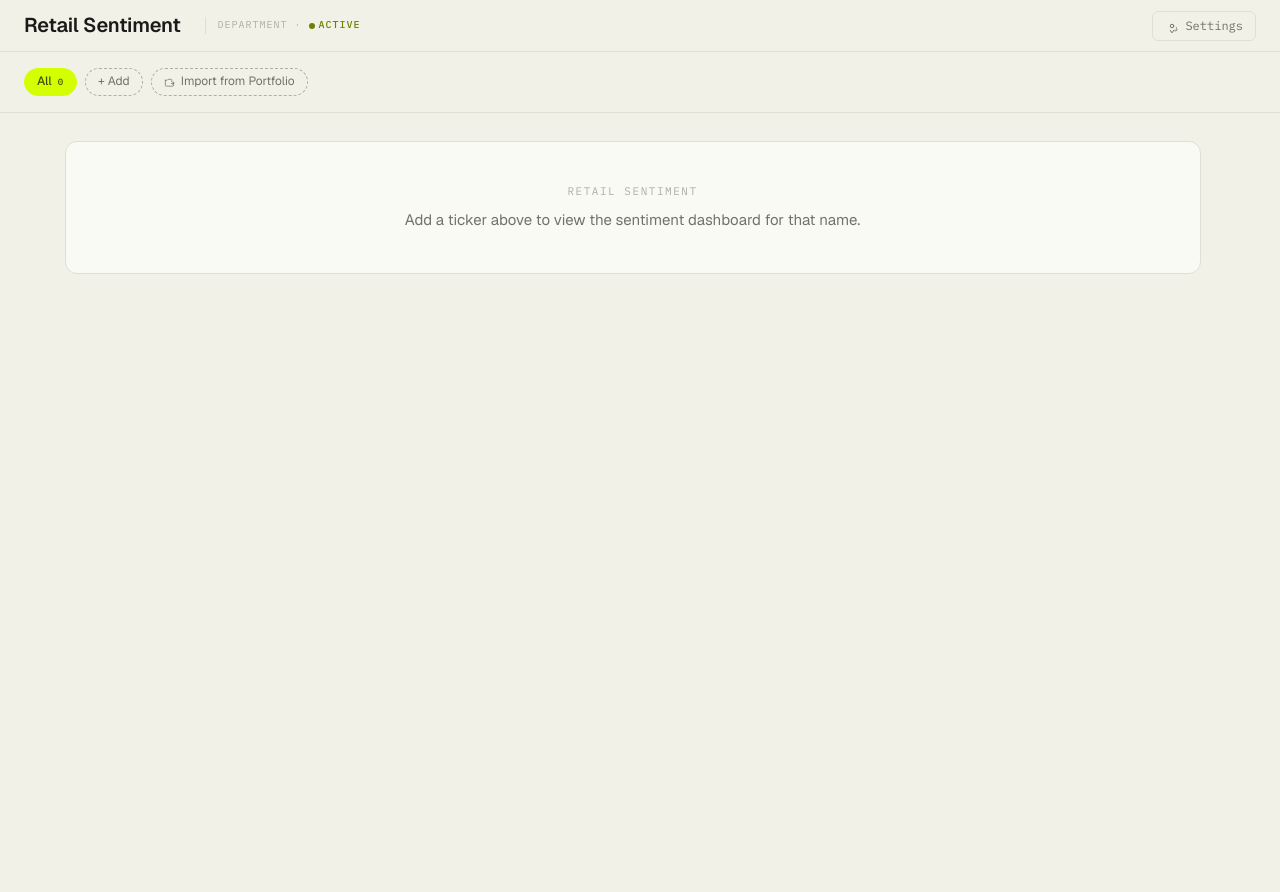
Scenario: RetailSentiment page › renders narratives list
This screenshot has width=1280, height=892.
Click the button with test id "ticker-add-button" at (114, 82), box [85,68,143,96]
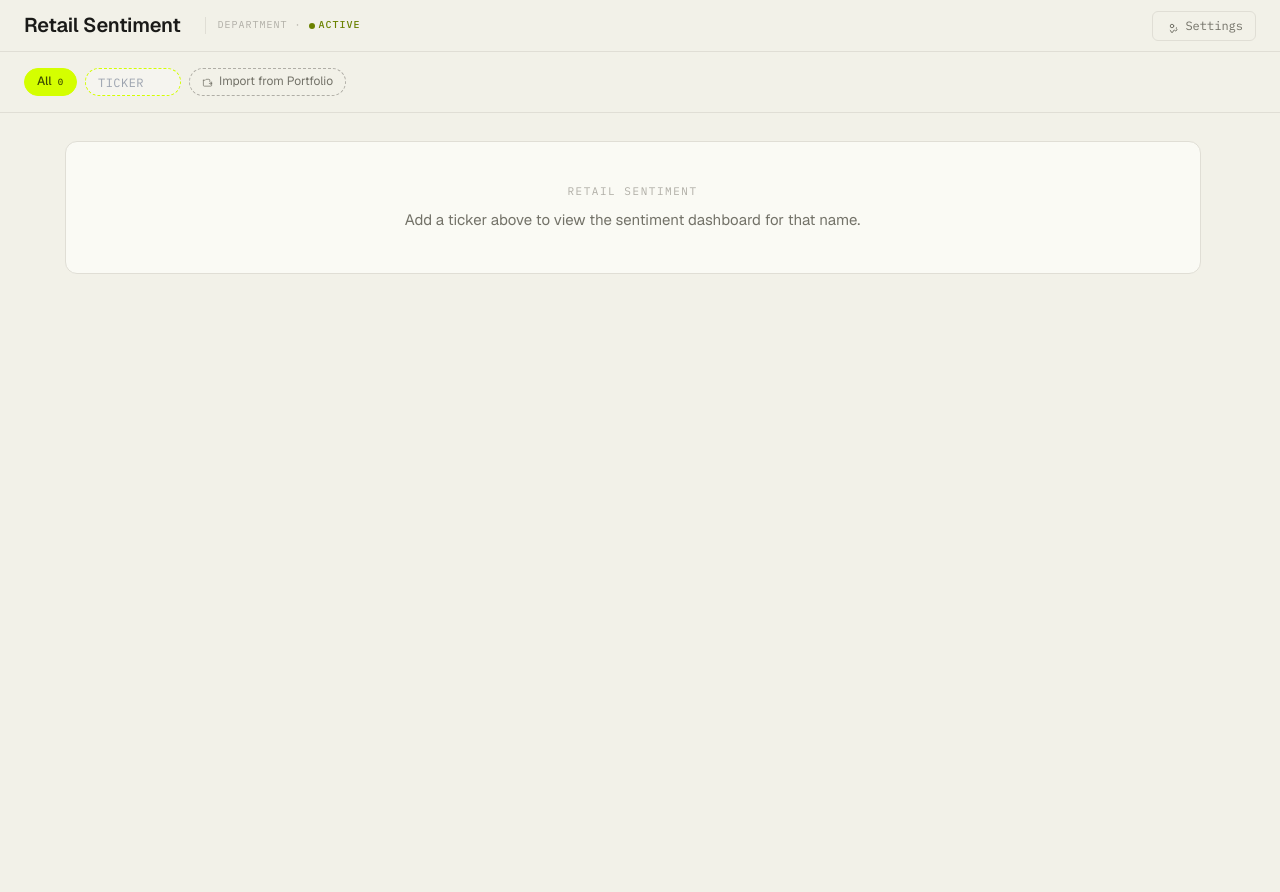
Type "AAPL" into the field with test id "ticker-add-input" at (133, 82), box [85,68,181,96]
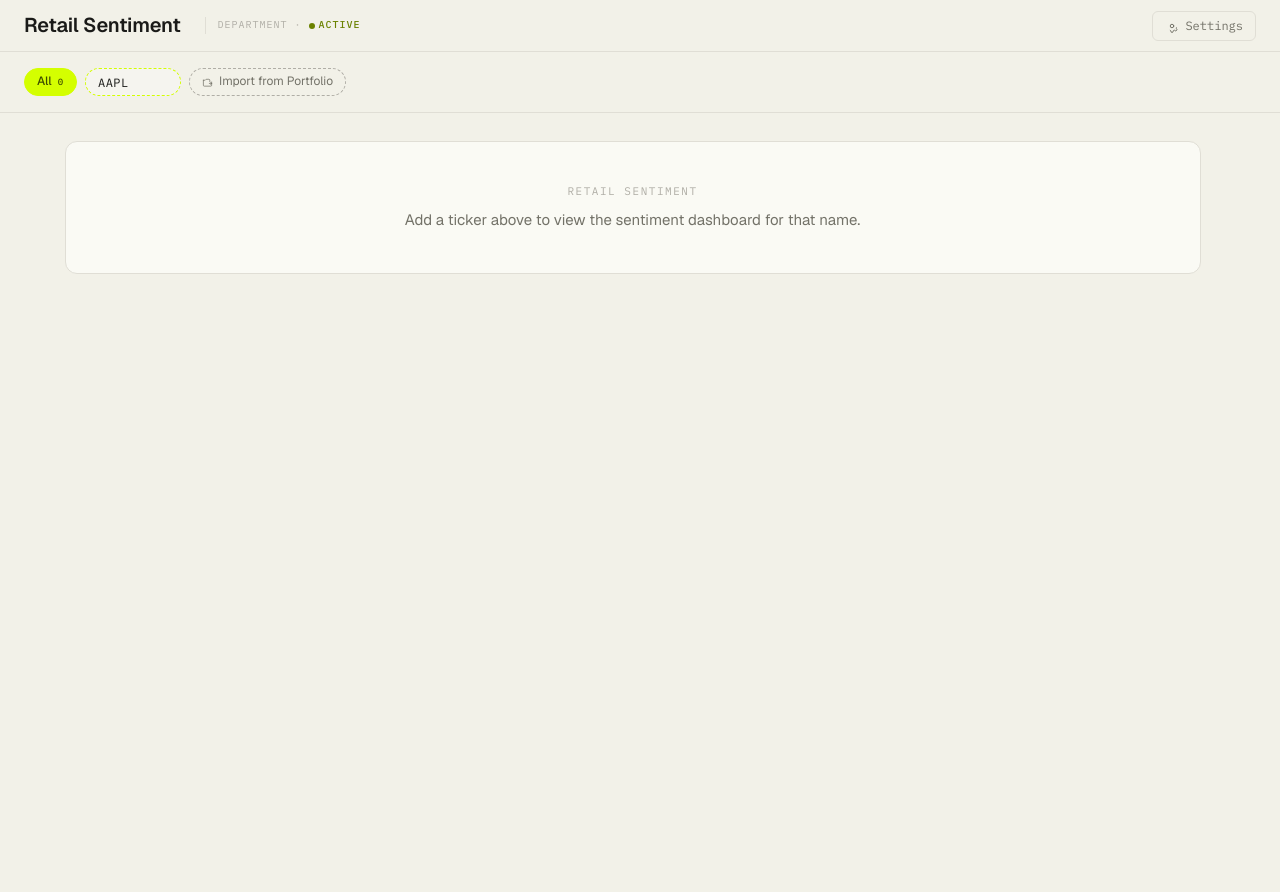
Press Enter in the field with test id "ticker-add-input", box [85,68,181,96]
(page scrolled)
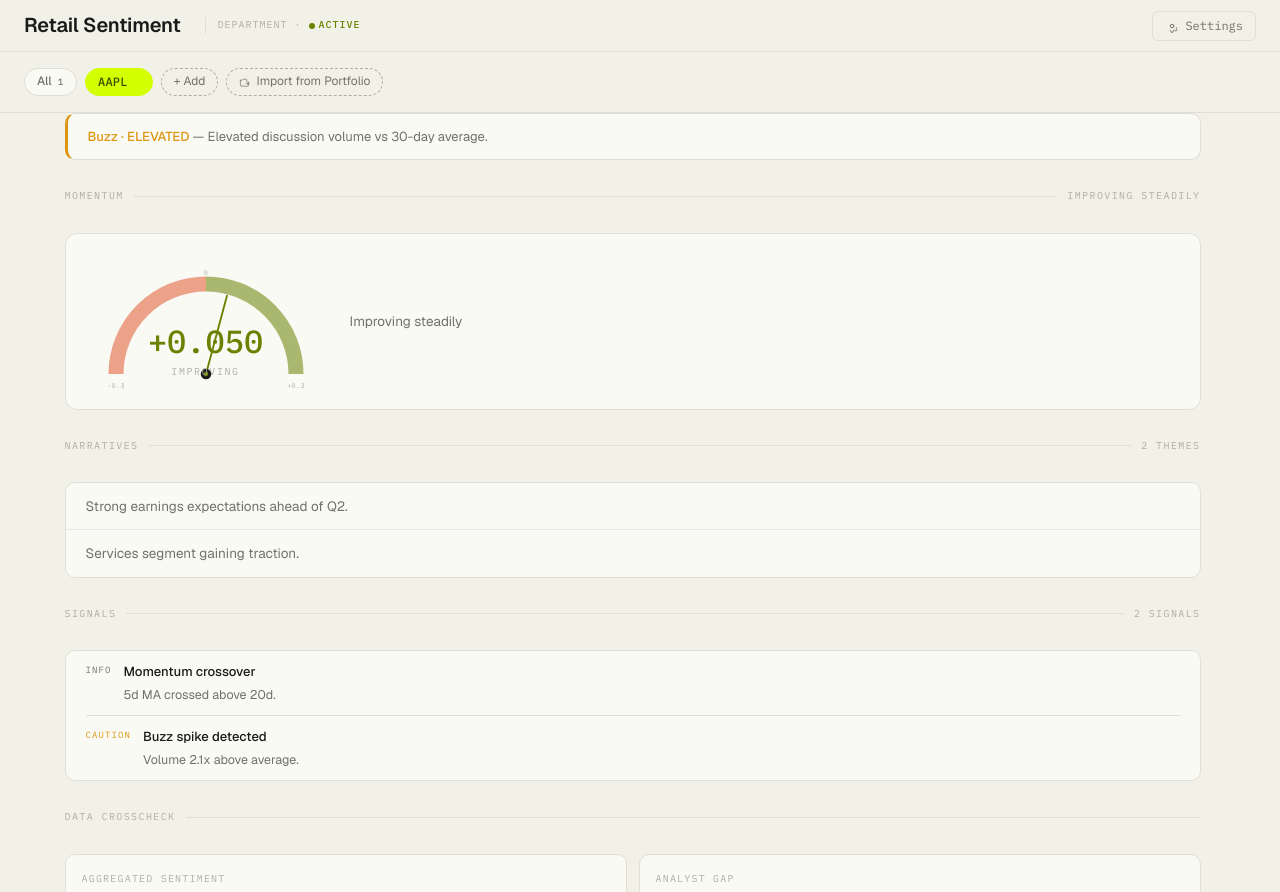
Check: the list with test id "rs-narratives" is shown, box [64,482,1200,578]
Check: the list item "Strong earnings expectations ahead of Q2." is shown, box [86,497,348,515]
